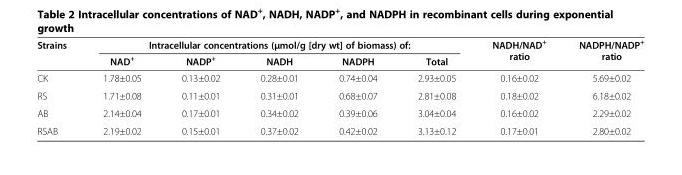table: (36, 37, 643, 136)
table column: (473, 37, 561, 136), (561, 37, 643, 136), (160, 37, 239, 136), (239, 37, 318, 136), (318, 37, 396, 136), (396, 37, 473, 136), (84, 37, 160, 136), (36, 37, 84, 136)
table column header: (36, 37, 643, 69)
table row: (36, 86, 643, 104), (36, 52, 643, 69), (36, 69, 643, 86), (36, 104, 643, 121), (36, 37, 643, 52), (36, 121, 643, 136)
table spanning cell: (84, 37, 473, 52), (473, 37, 561, 69), (561, 37, 643, 69), (36, 37, 84, 69)
